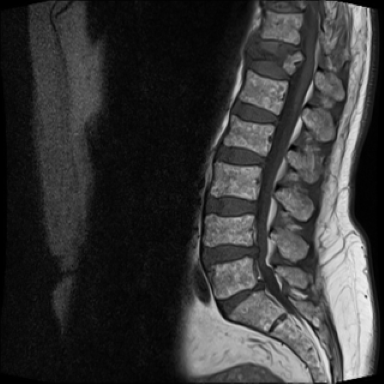Degenerative Disc Disease (DDD): (259, 0, 309, 17)
Lumbar Disc Bulge (LDB): (208, 274, 273, 322), (191, 236, 264, 269)
Normal IVD: (195, 186, 261, 222), (211, 136, 271, 172), (227, 96, 283, 130)
Spinal Stenosis (SS): (237, 229, 267, 268), (251, 273, 269, 301)
Spondylolisthesis: (239, 22, 317, 83)
Thoracic Disc Bulge (TDB): (237, 48, 297, 87), (244, 28, 306, 57)
